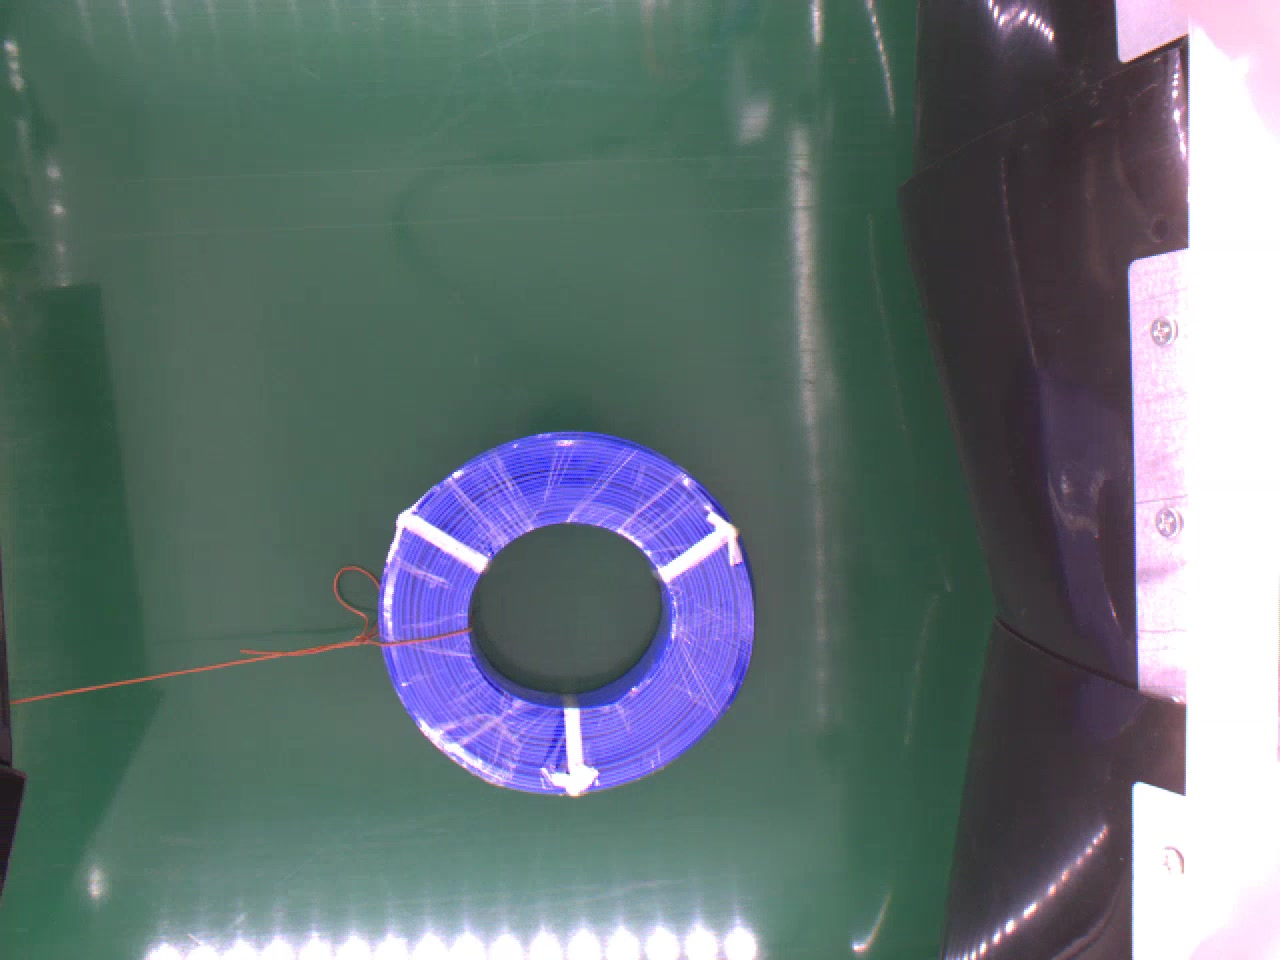blue: (371, 425, 765, 797)
